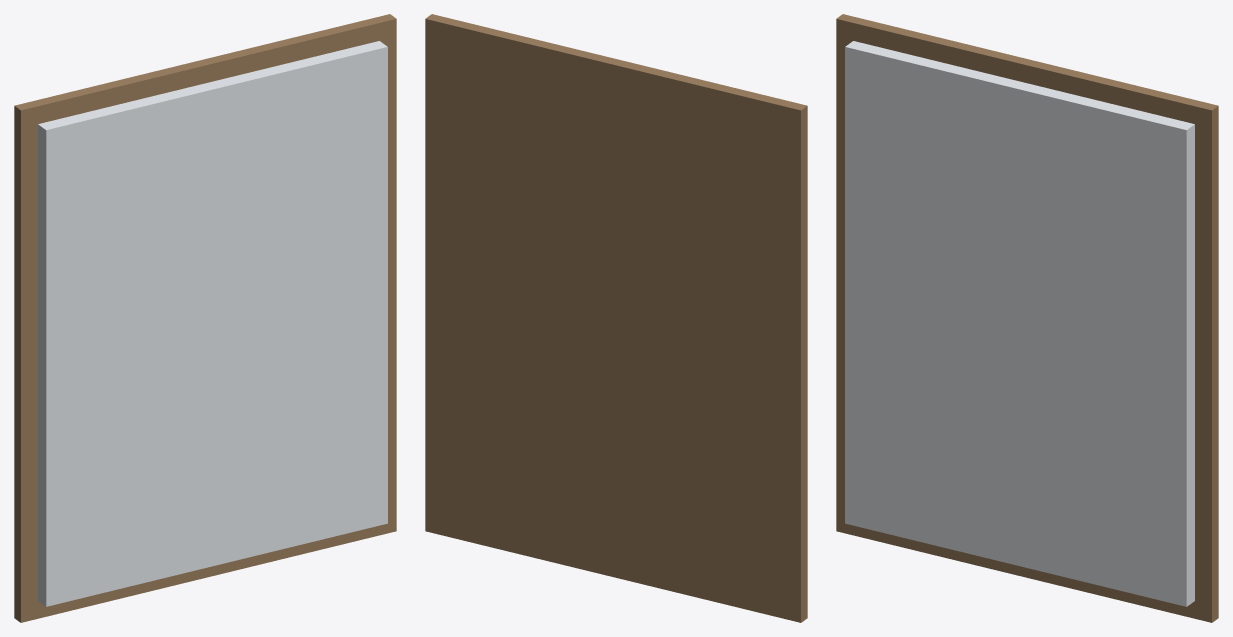
Rendered from mirror.glb.
3 views of the same model, side by side, from view 1: azimuth 30°, elevation 25°; view 2: azimuth 150°, elevation 25°; view 3: azimuth 330°, elevation 25° (orthographic).
Parts seen in each view (by area): view 1: mirror, frame; view 2: frame; view 3: mirror, frame.
Part boxes in pixels (<box>): mirror: <box>38,41,387,606</box>; frame: <box>14,14,396,622</box>; frame: <box>425,14,807,622</box>; mirror: <box>845,41,1194,606</box>; frame: <box>836,14,1218,622</box>.
Size of the model in its own units: 0.66 by 0.86 by 0.045.
